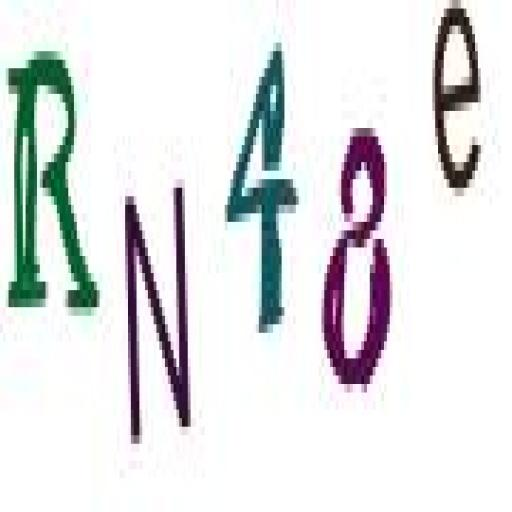4: (222, 30, 304, 349)
8: (323, 97, 404, 402)
N: (120, 163, 196, 458)
R: (2, 37, 102, 334)
e: (427, 0, 487, 207)
